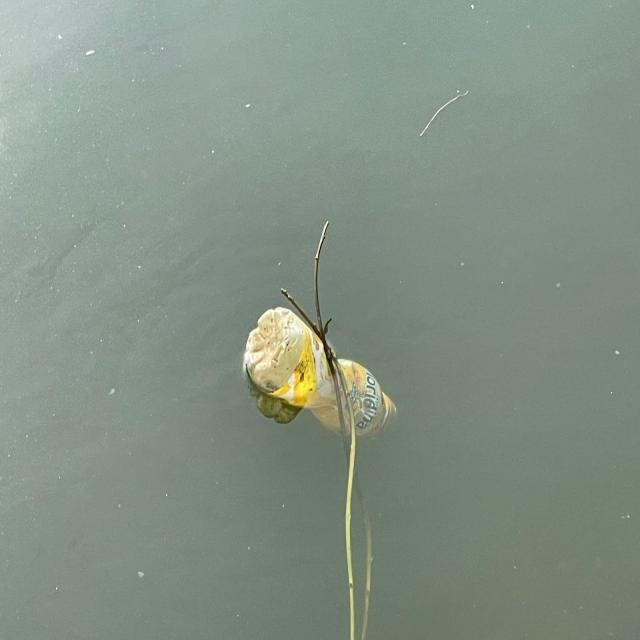Botol Plastik: (242, 303, 404, 453)
